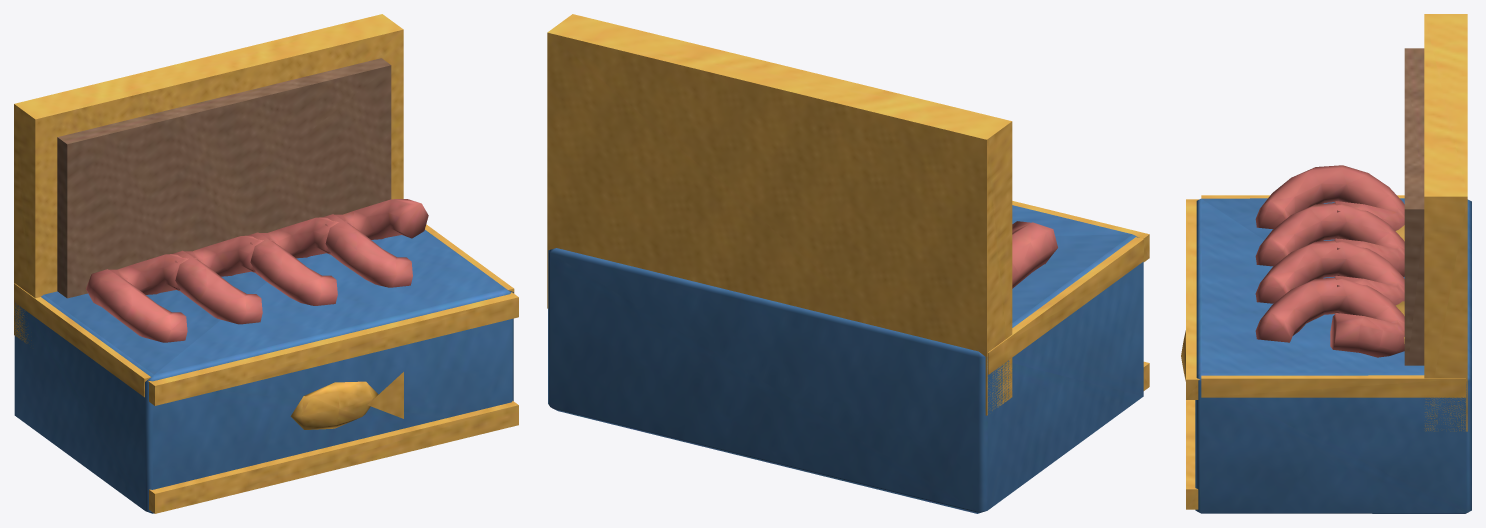
File: fishing_bait_tin.glb
3 renders of one model, left to right at view 1: azimuth 30°, elevation 25°; view 2: azimuth 150°, elevation 25°; view 3: azimuth 270°, elevation 25°, orthographic. The views are drawn at different scales.
Parts seen in each view (by area): view 1: Body; view 2: Body; view 3: Body.
Part boxes in pixels (<box>): Body: <box>14,14,518,513</box>; Body: <box>547,14,1149,513</box>; Body: <box>1181,14,1471,513</box>.
Size of the model in its own units: 0.251 by 0.205 by 0.17.
1 material, 1 textured.
